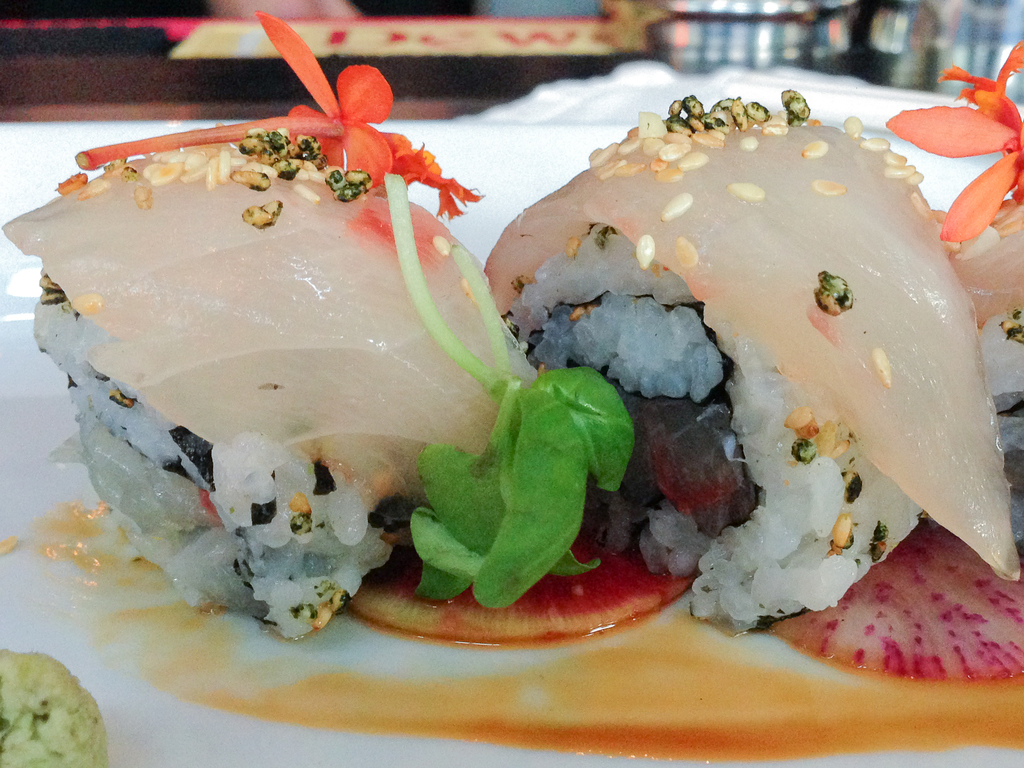sushi: (90, 56, 1000, 694)
